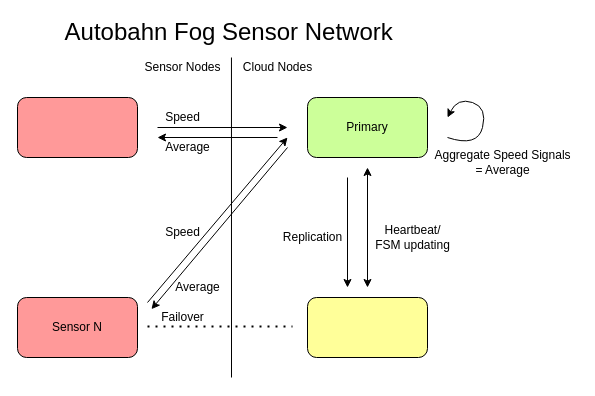
This 595x396 diagram has some shape labels left out. Each missing label, with the centre of its shape:
"Backup" goes at point (367, 327).
"Sensor 1" goes at point (77, 127).
